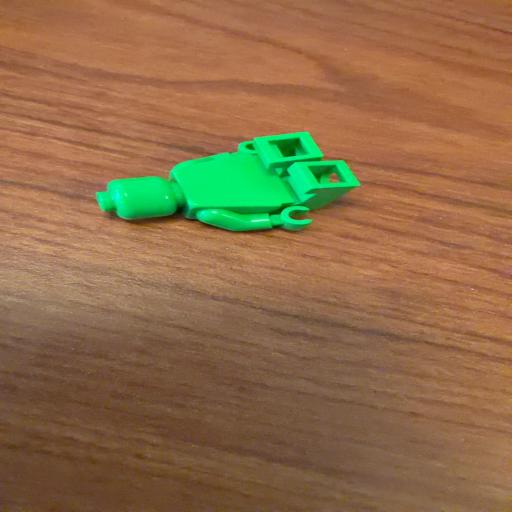UnoQ-minifig-detector: (96, 132, 359, 231)
